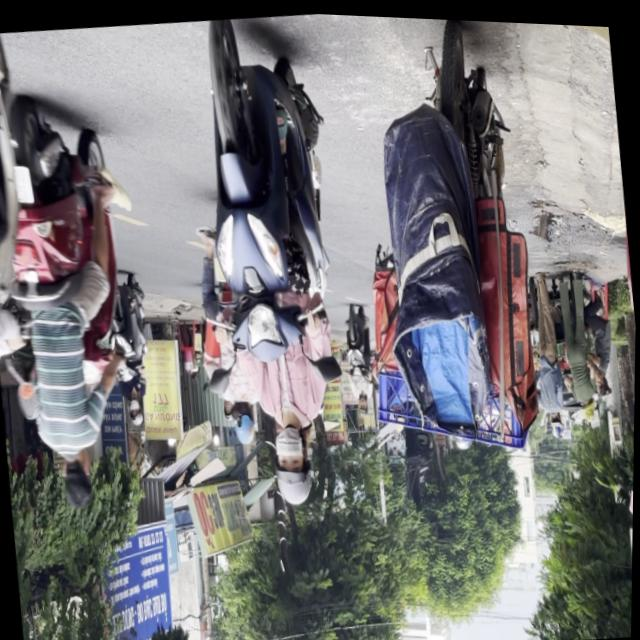helmet: (266, 417, 317, 506), (226, 396, 257, 445), (126, 395, 143, 426)
licenseplate: (166, 6, 364, 514), (0, 87, 154, 522), (100, 268, 158, 429)
motorcyclist: (58, 449, 96, 510)
